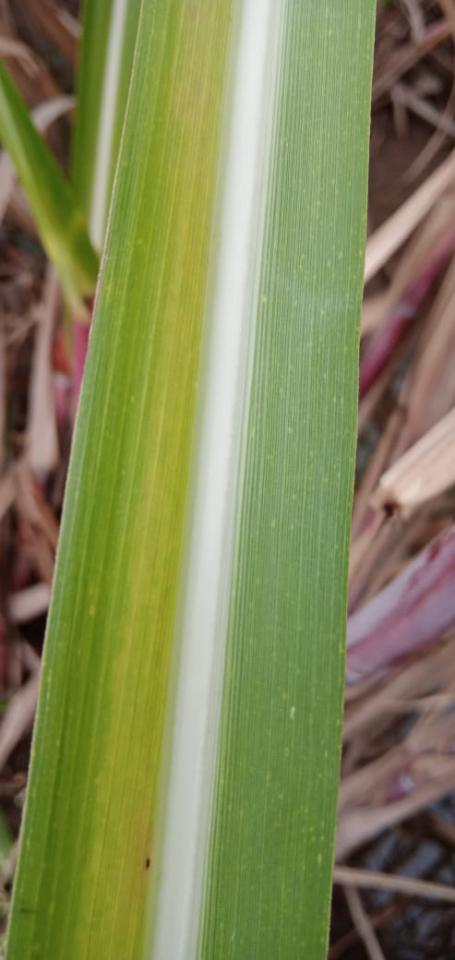Rust: (142, 855, 153, 873)
